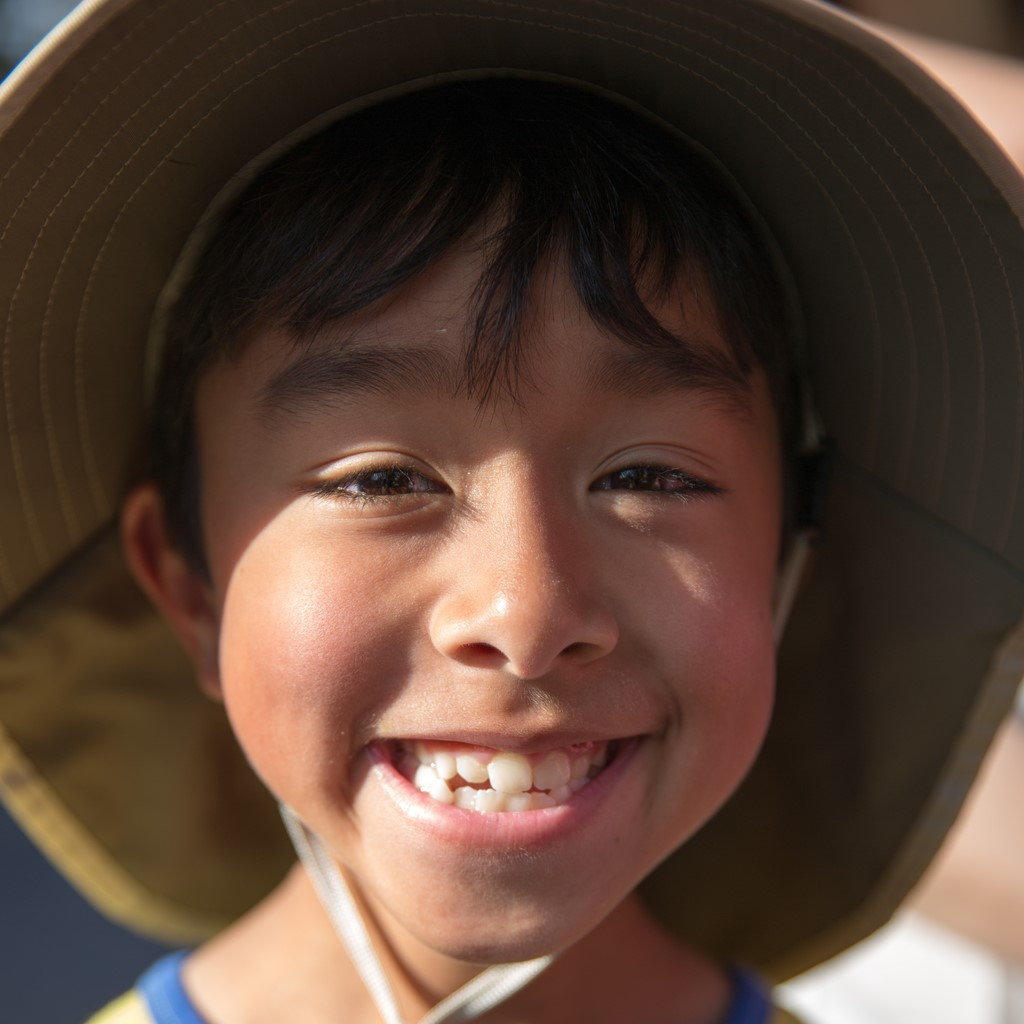sin_mascara: (161, 171, 822, 893)
